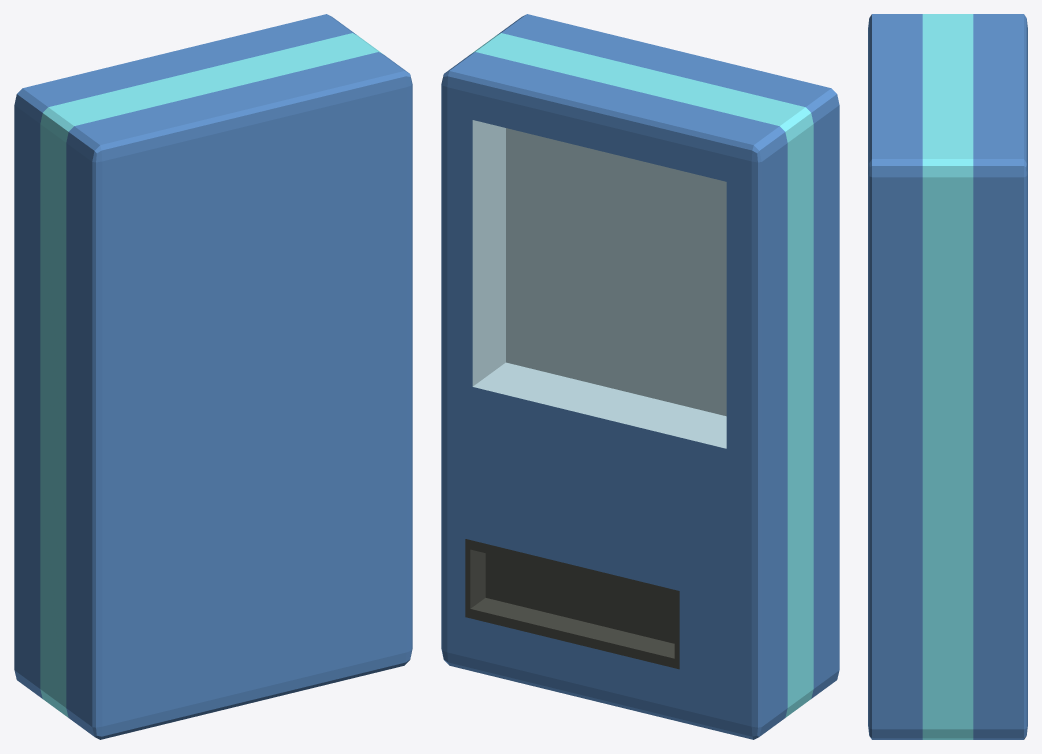
File: MaquinaExpendedorapruebanr1.fbx
3 views of the same model, side by side, from view 1: azimuth 30°, elevation 25°; view 2: azimuth 150°, elevation 25°; view 3: azimuth 270°, elevation 25° (orthographic). The views are drawn at different scales.
Visible parts, largest first — view 1: Maquina; view 2: Maquina; view 3: Maquina.
Part boxes in pixels (box(x1,y1,x2,y2)): Maquina: box(14, 14, 412, 739); Maquina: box(441, 14, 839, 739); Maquina: box(868, 14, 1027, 739).
Size of the model in its own units: 452 by 802 by 200.
